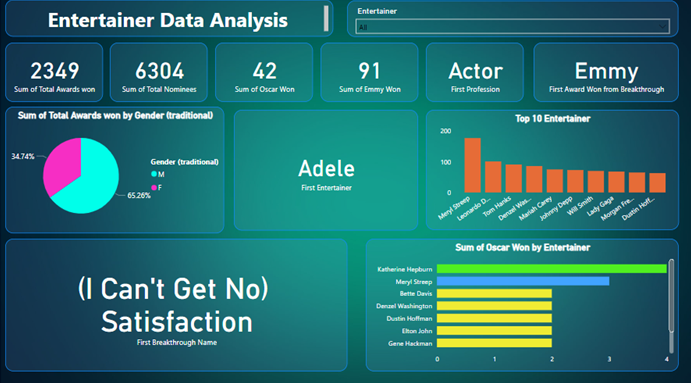

The dashboard page shown, as its layout file describes it:
{"tool":"powerbi","page":{"name":"Page 1","canvas":[1280,720],"ordinal":0},"visuals":[{"type":"textbox","box":[10.1,4.3,603.6,67.5],"z":0},{"type":"columnChart","title":"Top 10 Entertainer","fields":{"Category":["Final Data.Entertainer"],"Y":["Final Data.Total Awards won"]},"box":[784.7,206.9,465.6,221.3],"z":1000},{"type":"barChart","fields":{"Category":["Final Data.Entertainer"],"Y":["Final Data.Oscar Won"]},"box":[674,444.1,576.3,244.3],"z":2000},{"type":"card","fields":{"Values":["Final Data.Breakthrough Name"]},"box":[10.1,443.5,629.9,243.6],"z":3000},{"type":"card","fields":{"Values":["Final Data.Total Awards won"]},"box":[10.1,83.4,179.6,109.2],"z":4000},{"type":"card","fields":{"Values":["Final Data.Total Nominees"]},"box":[202.6,83.4,179.6,109.2],"z":5000},{"type":"card","fields":{"Values":["Final Data.Oscar Won"]},"box":[396.6,83.4,179.6,109.2],"z":6000},{"type":"card","fields":{"Values":["Final Data.Emmy Won"]},"box":[590.7,83.4,179.6,109.2],"z":7000},{"type":"card","fields":{"Values":["Final Data.Profession"]},"box":[784.7,83.4,179.6,109.2],"z":8000},{"type":"card","fields":{"Values":["Final Data.Award Won from Breakthrough"]},"box":[983,83.4,267.3,109.2],"z":9000},{"type":"pieChart","fields":{"Category":["Final Data.Gender (traditional)"],"Y":["Final Data.Total Awards won"]},"box":[10.1,201.6,403.1,233.5],"z":10000},{"type":"card","fields":{"Values":["Final Data.Entertainer"]},"box":[431.7,206.6,339.3,221.7],"z":11000},{"type":"slicer","fields":{"Values":["Final Data.Entertainer"]},"box":[640,5,609.8,67.2],"z":12000}]}

Visuals, with their boxes in screenshot pixels (x1, y1, x2, y2), scaled from the page's 1280x720 canvas onto the 691x383 screenshot:
textbox: <region>5, 2, 331, 38</region>
"Top 10 Entertainer" columnChart: <region>424, 110, 675, 228</region>
barChart - Final Data.Entertainer x Final Data.Oscar Won: <region>364, 236, 675, 366</region>
card - Final Data.Breakthrough Name: <region>5, 236, 346, 365</region>
card - Final Data.Total Awards won: <region>5, 44, 102, 102</region>
card - Final Data.Total Nominees: <region>109, 44, 206, 102</region>
card - Final Data.Oscar Won: <region>214, 44, 311, 102</region>
card - Final Data.Emmy Won: <region>319, 44, 416, 102</region>
card - Final Data.Profession: <region>424, 44, 521, 102</region>
card - Final Data.Award Won from Breakthrough: <region>531, 44, 675, 102</region>
pieChart - Final Data.Gender (traditional) x Final Data.Total Awards won: <region>5, 107, 223, 231</region>
card - Final Data.Entertainer: <region>233, 110, 416, 228</region>
slicer - Final Data.Entertainer: <region>346, 3, 675, 38</region>
